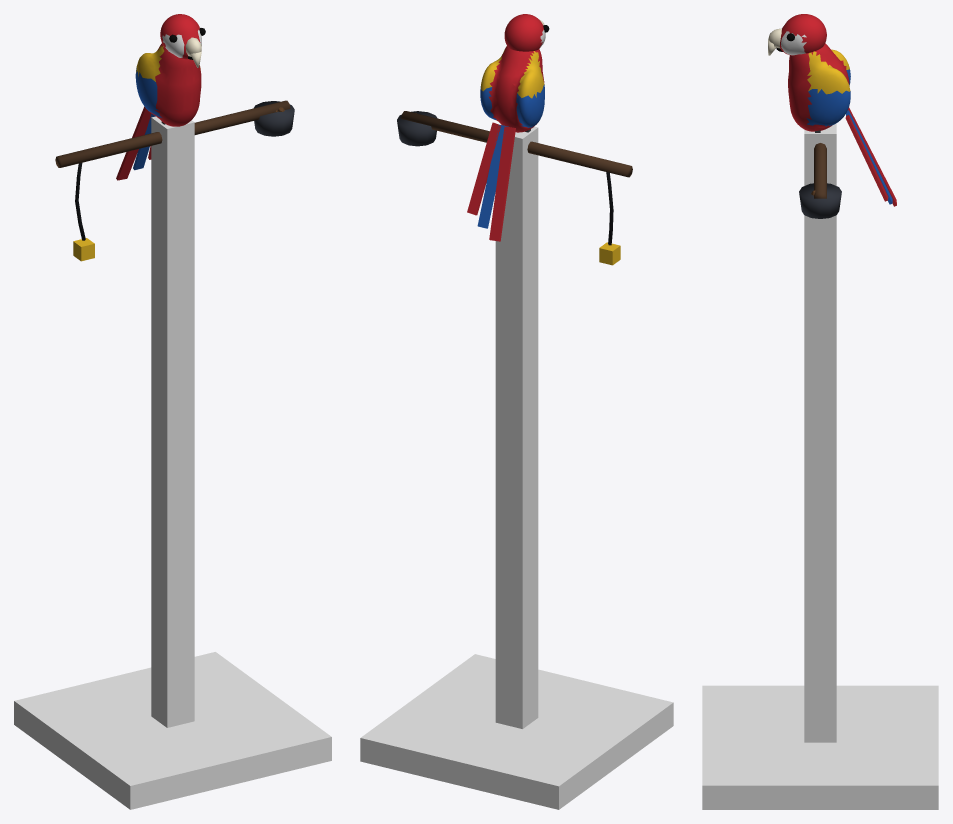
Rendered from Pet_Parrot_Perch.glb.
The picture shows the model from 3 angles, left to right: view 1: azimuth 30°, elevation 25°; view 2: azimuth 150°, elevation 25°; view 3: azimuth 270°, elevation 25°; orthographic projection. The views are drawn at different scales.
Parts seen in each view (by area): view 1: Pet_Parrot_Perch_COL, Pet_Parrot_Perch_COL1, Parrot_Body, Pet_Parrot_Perch, Parrot_Head; view 2: Pet_Parrot_Perch_COL, Pet_Parrot_Perch_COL1, Parrot_Body, Pet_Parrot_Perch, Parrot_Head; view 3: Pet_Parrot_Perch_COL, Pet_Parrot_Perch_COL1, Parrot_Body, Parrot_Head, Pet_Parrot_Perch.
Boxes of the visible parts, bbox=[...] form: Pet_Parrot_Perch_COL: bbox=[14, 652, 331, 809]; Pet_Parrot_Perch_COL1: bbox=[151, 116, 194, 727]; Parrot_Body: bbox=[116, 43, 201, 180]; Pet_Parrot_Perch: bbox=[55, 100, 294, 261]; Parrot_Head: bbox=[160, 14, 205, 67]; Pet_Parrot_Perch_COL: bbox=[360, 654, 673, 809]; Pet_Parrot_Perch_COL1: bbox=[495, 126, 538, 728]; Parrot_Body: bbox=[467, 46, 544, 241]; Pet_Parrot_Perch: bbox=[397, 111, 632, 265]; Parrot_Head: bbox=[504, 14, 549, 51]; Pet_Parrot_Perch_COL: bbox=[702, 685, 938, 809]; Pet_Parrot_Perch_COL1: bbox=[804, 123, 836, 742]; Parrot_Body: bbox=[788, 43, 896, 206]; Parrot_Head: bbox=[768, 14, 826, 55]; Pet_Parrot_Perch: bbox=[799, 143, 841, 218].
Bounding box in the file's own units: 0.51 × 1.53 × 0.44.
